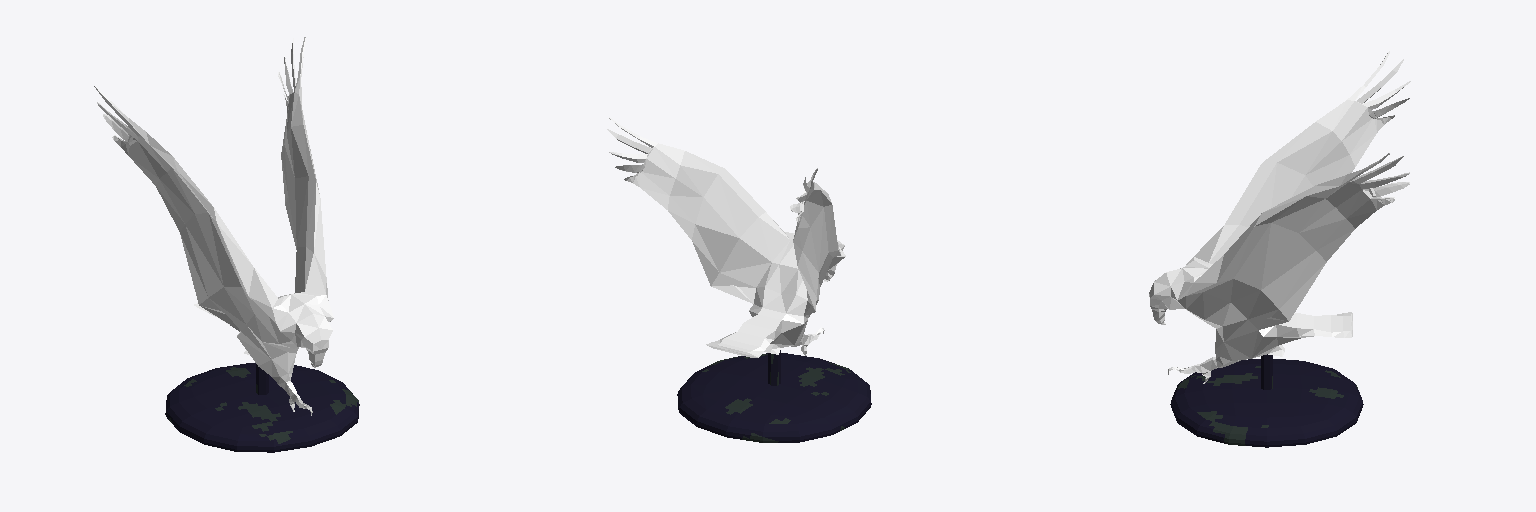
The picture shows the model from 3 angles: view 1: azimuth 30°, elevation 25°; view 2: azimuth 150°, elevation 25°; view 3: azimuth 270°, elevation 25°; orthographic projection.
Visible parts, largest first — view 1: Eagle_Statue, Base_of_Statue; view 2: Eagle_Statue, Base_of_Statue; view 3: Eagle_Statue, Base_of_Statue.
Part boxes in pixels (x1,y1,x2,y2): Eagle_Statue: (94, 37, 333, 415); Base_of_Statue: (165, 363, 359, 452); Eagle_Statue: (607, 117, 845, 357); Base_of_Statue: (677, 353, 871, 442); Eagle_Statue: (1149, 51, 1410, 383); Base_of_Statue: (1170, 359, 1363, 447).
Bounding box in the file's own units: 1.14 × 1.61 × 1.24.
2 materials, 1 textured.